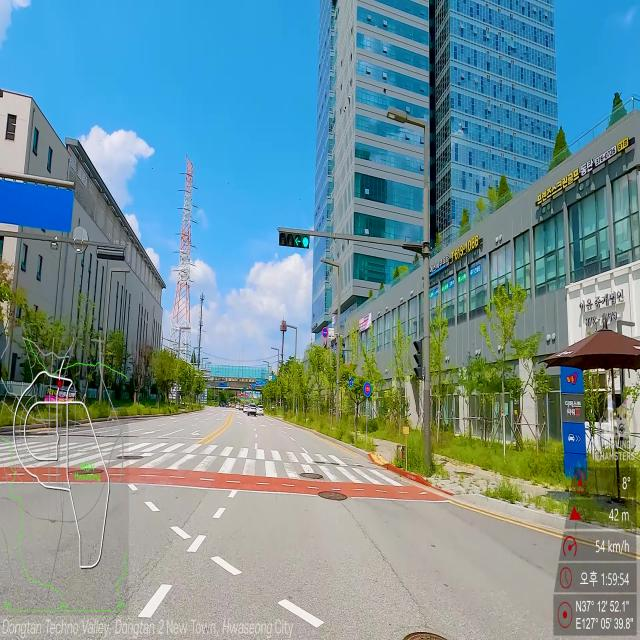Green Light: (302, 235, 309, 248)
